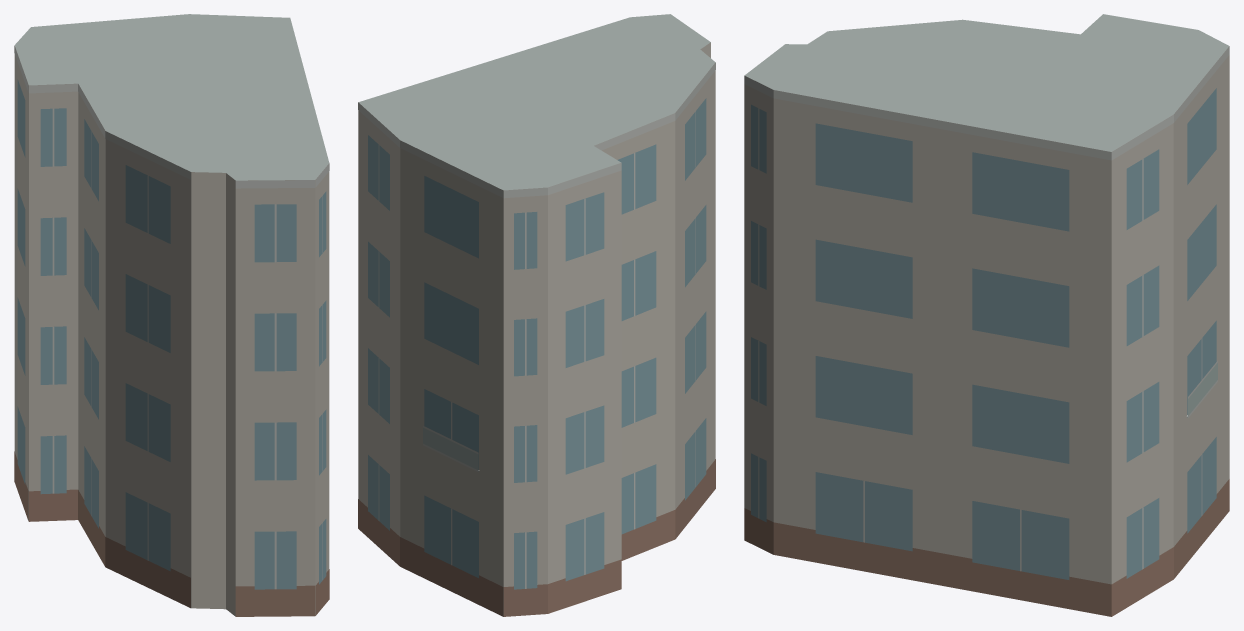
The model's file is survey-upis-32949600.glb.
The picture shows the model from 3 angles, left to right: view 1: azimuth 30°, elevation 25°; view 2: azimuth 150°, elevation 25°; view 3: azimuth 270°, elevation 25°; orthographic projection. The views are drawn at different scales.
Parts seen in each view (by area): view 1: survey-upis-32949600.tmp; view 2: survey-upis-32949600.tmp; view 3: survey-upis-32949600.tmp.
Boxes of the visible parts, x1,y1,x2,y2 form: survey-upis-32949600.tmp: [14, 14, 329, 616]; survey-upis-32949600.tmp: [358, 14, 715, 616]; survey-upis-32949600.tmp: [744, 14, 1229, 616].
Bounding box in the file's own units: 8.51 × 13.35 × 12.64.
